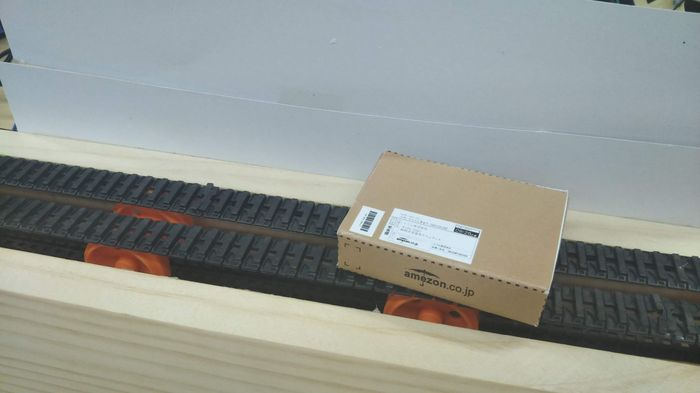box2: (335, 148, 568, 326)
